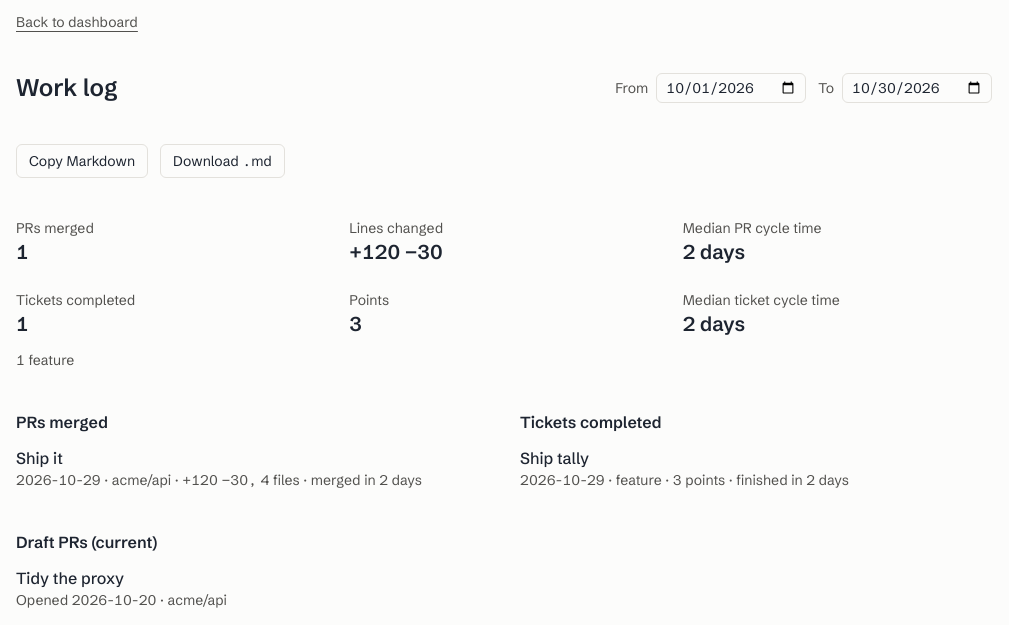
Test: WorkLog › copies the report as Markdown
Step 1. Click the button "Copy Markdown" → (82, 161), box top-left (16, 144), bottom-right (148, 178)
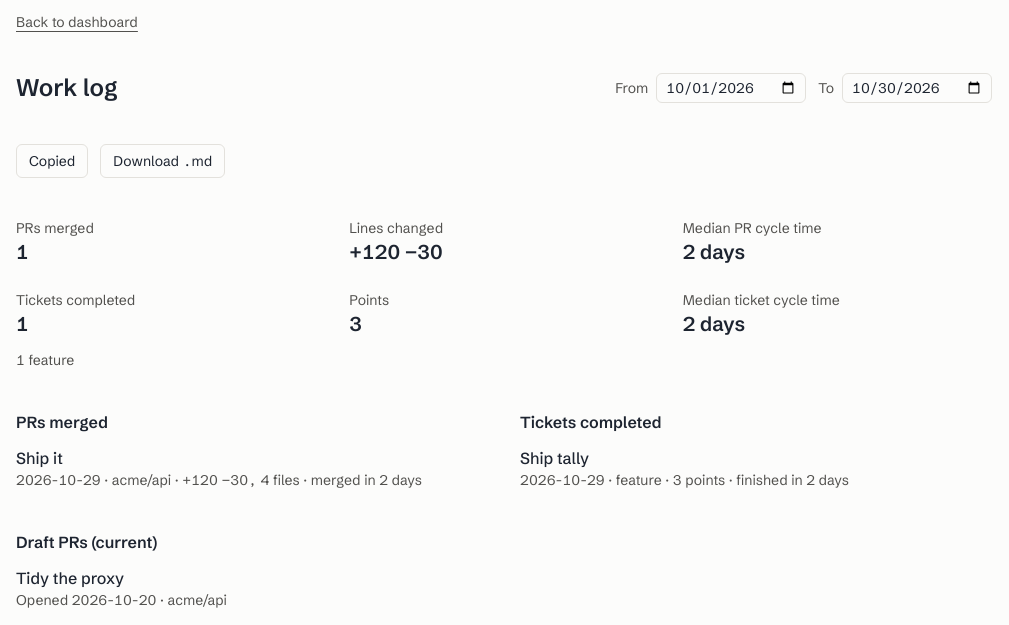
Check: the button "Copied" is shown, box top-left (16, 144), bottom-right (88, 178)
